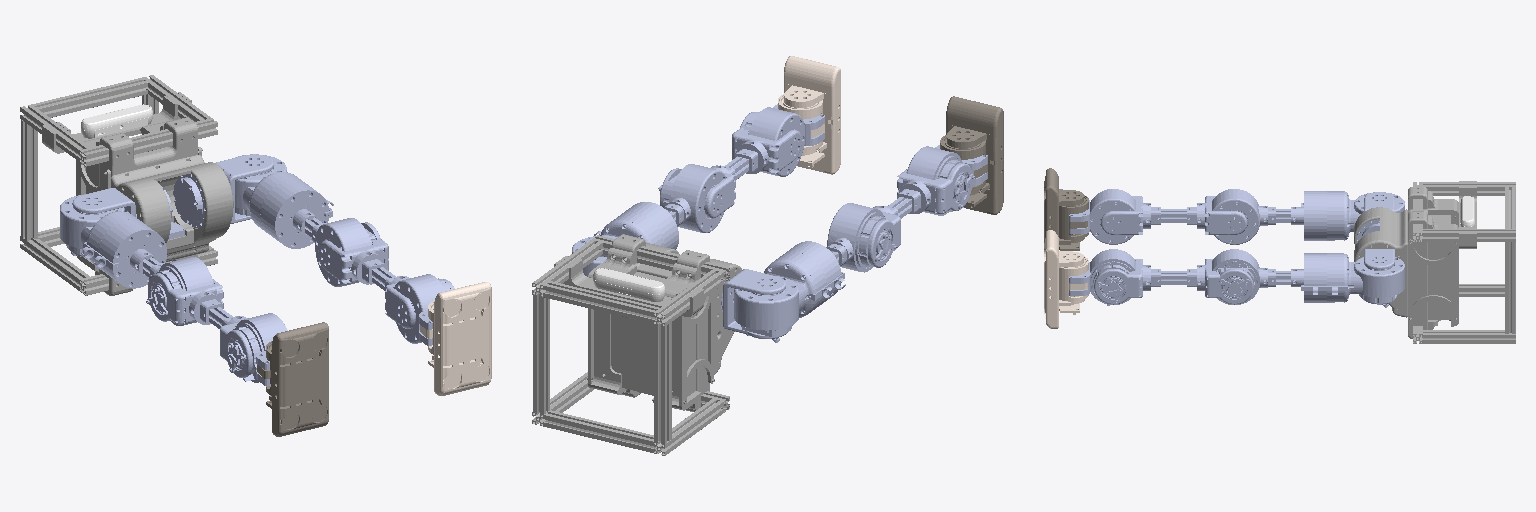
robot.urdf — final1_urdf:
<?xml version='1.0' encoding='utf-8'?>
<robot name="final1_urdf">
  <link name="pelvis">
    <inertial>
      <origin xyz="9.839E-07 0.08951 -0.034716" rpy="0 0 0" />
      <mass value="4.2075" />
      <inertia ixx="0.014044" ixy="4.3662E-09" ixz="-4.5112E-06" iyy="0.020395" iyz="0.00018173" izz="0.010714" />
    </inertial>
    <visual>
      <origin xyz="0 0 0" rpy="0 0 0" />
      <geometry>
        <mesh filename="package://final1_urdf/meshes/pelvis.STL" />
      </geometry>
      <material name="">
        <color rgba="0.75294 0.75294 0.75294 1" />
      </material>
    </visual>
    <collision>
      <origin xyz="0 0 0" rpy="0 0 0" />
      <geometry>
        <mesh filename="package://final1_urdf/meshes/pelvis.STL" />
      </geometry>
    </collision>
  </link>
  <link name="left_hip_f_link">
    <inertial>
      <origin xyz="-0.004802 8.0766E-05 0.0019792" rpy="0 0 0" />
      <mass value="0.3995" />
      <inertia ixx="0.00029699" ixy="6.7668E-07" ixz="6.7578E-07" iyy="0.0002179" iyz="4.2161E-07" izz="0.00023163" />
    </inertial>
    <visual>
      <origin xyz="0 0 0" rpy="0 0 0" />
      <geometry>
        <mesh filename="package://final1_urdf/meshes/left_hip_f_link.STL" />
      </geometry>
      <material name="">
        <color rgba="0.79216 0.81961 0.93333 1" />
      </material>
    </visual>
    <collision>
      <origin xyz="0 0 0" rpy="0 0 0" />
      <geometry>
        <mesh filename="package://final1_urdf/meshes/left_hip_f_link.STL" />
      </geometry>
    </collision>
  </link>
  <joint name="left_hip_f_joint" type="revolute">
    <origin xyz="0.071 0 0" rpy="0 0 0" />
    <parent link="pelvis" />
    <child link="left_hip_f_link" />
    <axis xyz="1 0 0" />
    <limit lower="0" upper="0" effort="0" velocity="0" />
  </joint>
  <link name="left_hip_a_link">
    <inertial>
      <origin xyz="-0.00029649 -0.035704 -0.019838" rpy="0 0 0" />
      <mass value="0.7989" />
      <inertia ixx="0.00076229" ixy="3.0686E-07" ixz="-6.0209E-07" iyy="0.00077244" iyz="-3.9078E-05" izz="0.00099028" />
    </inertial>
    <visual>
      <origin xyz="0 0 0" rpy="0 0 0" />
      <geometry>
        <mesh filename="package://final1_urdf/meshes/left_hip_a_link.STL" />
      </geometry>
      <material name="">
        <color rgba="0.79216 0.81961 0.93333 1" />
      </material>
    </visual>
    <collision>
      <origin xyz="0 0 0" rpy="0 0 0" />
      <geometry>
        <mesh filename="package://final1_urdf/meshes/left_hip_a_link.STL" />
      </geometry>
    </collision>
  </link>
  <joint name="left_hip_a_joint" type="revolute">
    <origin xyz="0.0725 0 0.019625" rpy="0 0 0" />
    <parent link="left_hip_f_link" />
    <child link="left_hip_a_link" />
    <axis xyz="0 0 -1" />
    <limit lower="0" upper="0" effort="0" velocity="0" />
  </joint>
  <link name="left_hip_r_link">
    <inertial>
      <origin xyz="-0.0028997 -0.032008 0.00017983" rpy="0 0 0" />
      <mass value="0.48458" />
      <inertia ixx="0.00048322" ixy="-1.0961E-05" ixz="-1.1905E-07" iyy="0.00041703" iyz="-7.7172E-07" izz="0.00039767" />
    </inertial>
    <visual>
      <origin xyz="0 0 0" rpy="0 0 0" />
      <geometry>
        <mesh filename="package://final1_urdf/meshes/left_hip_r_link.STL" />
      </geometry>
      <material name="">
        <color rgba="0.79216 0.81961 0.93333 1" />
      </material>
    </visual>
    <collision>
      <origin xyz="0 0 0" rpy="0 0 0" />
      <geometry>
        <mesh filename="package://final1_urdf/meshes/left_hip_r_link.STL" />
      </geometry>
    </collision>
  </link>
  <joint name="left_hip_r_joint" type="revolute">
    <origin xyz="0 -0.12405 -0.02" rpy="0 0 0" />
    <parent link="left_hip_a_link" />
    <child link="left_hip_r_link" />
    <axis xyz="0 1 0" />
    <limit lower="0" upper="0" effort="0" velocity="0" />
  </joint>
  <link name="left_knee_link">
    <inertial>
      <origin xyz="0.025103 -0.054039 -0.0002832" rpy="0 0 0" />
      <mass value="0.6077" />
      <inertia ixx="0.00058774" ixy="1.7004E-08" ixz="-1.7442E-07" iyy="0.00031697" iyz="-9.6663E-08" izz="0.00050521" />
    </inertial>
    <visual>
      <origin xyz="0 0 0" rpy="0 0 0" />
      <geometry>
        <mesh filename="package://final1_urdf/meshes/left_knee_link.STL" />
      </geometry>
      <material name="">
        <color rgba="0.79216 0.81961 0.93333 1" />
      </material>
    </visual>
    <collision>
      <origin xyz="0 0 0" rpy="0 0 0" />
      <geometry>
        <mesh filename="package://final1_urdf/meshes/left_knee_link.STL" />
      </geometry>
    </collision>
  </link>
  <joint name="left_knee_joint" type="revolute">
    <origin xyz="-0.01985 -0.15827 0.00035" rpy="0 0 0" />
    <parent link="left_hip_r_link" />
    <child link="left_knee_link" />
    <axis xyz="-1 0 0" />
    <limit lower="0" upper="0" effort="0" velocity="0" />
  </joint>
  <link name="left_ankle_f_link">
    <inertial>
      <origin xyz="0.0231470188711767 -0.00363723520690706 0.000196108049467458" rpy="0 0 0" />
      <mass value="0.479350778376135" />
      <inertia ixx="0.000607516579094491" ixy="1.74283560766878E-05" ixz="-1.18527257170734E-07" iyy="0.000367936381365894" iyz="2.91597906616465E-06" izz="0.000455183602729944" />
    </inertial>
    <visual>
      <origin xyz="0 0 0" rpy="0 0 0" />
      <geometry>
        <mesh filename="package://final1_urdf/meshes/left_ankle_f_link.STL" />
      </geometry>
      <material name="">
        <color rgba="0.792156862745098 0.819607843137255 0.933333333333333 1" />
      </material>
    </visual>
    <collision>
      <origin xyz="0 0 0" rpy="0 0 0" />
      <geometry>
        <mesh filename="package://final1_urdf/meshes/left_ankle_f_link.STL" />
      </geometry>
    </collision>
  </link>
  <joint name="left_ankle_f_joint" type="revolute">
    <origin xyz="0 -0.236 0" rpy="0 0 0" />
    <parent link="left_knee_link" />
    <child link="left_ankle_f_link" />
    <axis xyz="-1 0 0" />
    <limit lower="0" upper="0" effort="0" velocity="0" />
  </joint>
  <link name="left_ankle_r_link">
    <inertial>
      <origin xyz="0.00052334730830618 -0.0251210324577549 0.00788557788482058" rpy="0 0 0" />
      <mass value="0.552773293782394" />
      <inertia ixx="0.00102319485535352" ixy="-1.28134435012325E-06" ixz="-3.21380051111467E-07" iyy="0.00122199267972862" iyz="-4.18671394617864E-05" izz="0.000441956815258326" />
    </inertial>
    <visual>
      <origin xyz="0 0 0" rpy="0 0 0" />
      <geometry>
        <mesh filename="package://final1_urdf/meshes/left_ankle_r_link.STL" />
      </geometry>
      <material name="">
        <color rgba="1 0.949019607843137 0.909803921568627 1" />
      </material>
    </visual>
    <collision>
      <origin xyz="0 0 0" rpy="0 0 0" />
      <geometry>
        <mesh filename="package://final1_urdf/meshes/left_ankle_r_link.STL" />
      </geometry>
    </collision>
  </link>
  <joint name="left_ankle_r_joint" type="revolute">
    <origin xyz="0.02 -0.08245 -0.0105" rpy="0 0 0" />
    <parent link="left_ankle_f_link" />
    <child link="left_ankle_r_link" />
    <axis xyz="0 0 1" />
    <limit lower="0" upper="0" effort="0" velocity="0" />
  </joint>
  <link name="right_hip_f_link">
    <inertial>
      <origin xyz="0.00480203017234523 8.94208739444791E-05 0.00195829899369726" rpy="0 0 0" />
      <mass value="0.399500067678193" />
      <inertia ixx="0.000296985387105879" ixy="-7.49212103520412E-07" ixz="-5.0070706278901E-07" iyy="0.000218064369957338" iyz="2.53381610807258E-07" izz="0.000231458892812969" />
    </inertial>
    <visual>
      <origin xyz="0 0 0" rpy="0 0 0" />
      <geometry>
        <mesh filename="package://final1_urdf/meshes/right_hip_f_link.STL" />
      </geometry>
      <material name="">
        <color rgba="0.792156862745098 0.819607843137255 0.933333333333333 1" />
      </material>
    </visual>
    <collision>
      <origin xyz="0 0 0" rpy="0 0 0" />
      <geometry>
        <mesh filename="package://final1_urdf/meshes/right_hip_f_link.STL" />
      </geometry>
    </collision>
  </link>
  <joint name="right_hip_f_joint" type="revolute">
    <origin xyz="-0.071 0 0" rpy="0 0 0" />
    <parent link="pelvis" />
    <child link="right_hip_f_link" />
    <axis xyz="1 0 0" />
    <limit lower="0" upper="0" effort="0" velocity="0" />
  </joint>
  <link name="right_hip_a_link">
    <inertial>
      <origin xyz="-0.000291191460199541 -0.0379313905989257 -0.0217892547404157" rpy="0 0 0" />
      <mass value="0.75198145394561" />
      <inertia ixx="0.000750756166093472" ixy="1.1623386715664E-07" ixz="-1.87357791140537E-06" iyy="0.000754159487452489" iyz="-3.90809061808232E-05" izz="0.000962960051507626" />
    </inertial>
    <visual>
      <origin xyz="0 0 0" rpy="0 0 0" />
      <geometry>
        <mesh filename="package://final1_urdf/meshes/right_hip_a_link.STL" />
      </geometry>
      <material name="">
        <color rgba="0.792156862745098 0.819607843137255 0.933333333333333 1" />
      </material>
    </visual>
    <collision>
      <origin xyz="0 0 0" rpy="0 0 0" />
      <geometry>
        <mesh filename="package://final1_urdf/meshes/right_hip_a_link.STL" />
      </geometry>
    </collision>
  </link>
  <joint name="right_hip_a_joint" type="revolute">
    <origin xyz="-0.0725 0 0.019625" rpy="0 0 0" />
    <parent link="right_hip_f_link" />
    <child link="right_hip_a_link" />
    <axis xyz="0 0 -1" />
    <limit lower="0" upper="0" effort="0" velocity="0" />
  </joint>
  <link name="right_hip_r_link">
    <inertial>
      <origin xyz="0.002881064498 -0.03200325677 -2.796388496e-05" rpy="0 0 0" />
      <mass value="0.484578164755911" />
      <inertia ixx="0.000483223824381888" ixy="1.11502172949931E-05" ixz="-1.19053885376094E-07" iyy="0.000417032557694162" iyz="-7.71656937001713E-07" izz="0.000397665260898128" />
    </inertial>
    <visual>
      <origin xyz="0.01985 -0.15827 -0.00035" rpy="0 0 0" />
      <geometry>
        <mesh filename="package://final1_urdf/meshes/right_hip_r_link.STL" />
      </geometry>
      <material name="">
        <color rgba="0.792156862745098 0.819607843137255 0.933333333333333 1" />
      </material>
    </visual>
    <collision>
      <origin xyz="0.01985 -0.15827 -0.00035" rpy="0 0 0" />
      <geometry>
        <mesh filename="package://final1_urdf/meshes/right_hip_r_link.STL" />
      </geometry>
    </collision>
  </link>
  <joint name="right_hip_r_joint" type="revolute">
    <origin xyz="0 -0.12405 -0.02" rpy="0 0 0" />
    <parent link="right_hip_a_link" />
    <child link="right_hip_r_link" />
    <axis xyz="0 1 0" />
    <limit lower="0" upper="0" effort="0" velocity="0" />
  </joint>
  <link name="right_knee_link">
    <inertial>
      <origin xyz="-0.0251028272609897 -0.0540390159075022 0.000283200578150344" rpy="0 0 0" />
      <mass value="0.607696213986947" />
      <inertia ixx="0.000587738964039527" ixy="-1.70037311223142E-08" ixz="-1.74422604228582E-07" iyy="0.000316967066186684" iyz="9.66633806313855E-08" izz="0.000505213330321344" />
    </inertial>
    <visual>
      <origin xyz="0 0 0" rpy="0 0 0" />
      <geometry>
        <mesh filename="package://final1_urdf/meshes/right_knee_link.STL" />
      </geometry>
      <material name="">
        <color rgba="0.792156862745098 0.819607843137255 0.933333333333333 1" />
      </material>
    </visual>
    <collision>
      <origin xyz="0 0 0" rpy="0 0 0" />
      <geometry>
        <mesh filename="package://final1_urdf/meshes/right_knee_link.STL" />
      </geometry>
    </collision>
  </link>
  <joint name="right_knee_joint" type="revolute">
    <origin xyz="0.01985 -0.15827 -0.00035" rpy="0 0 0" />
    <parent link="right_hip_r_link" />
    <child link="right_knee_link" />
    <axis xyz="1 0 0" />
    <limit lower="0" upper="0" effort="0" velocity="0" />
  </joint>
  <link name="right_ankle_f_link">
    <inertial>
      <origin xyz="-0.0231470188711867 -0.00362831846975931 0.000176972933583652" rpy="0 0 0" />
      <mass value="0.479350778376136" />
      <inertia ixx="0.000607516579094492" ixy="-1.74515465744097E-05" ixz="9.56830980355604E-08" iyy="0.000368120414548514" iyz="2.63686485988115E-06" izz="0.000454999569547325" />
    </inertial>
    <visual>
      <origin xyz="0 0 0" rpy="0 0 0" />
      <geometry>
        <mesh filename="package://final1_urdf/meshes/right_ankle_f_link.STL" />
      </geometry>
      <material name="">
        <color rgba="0.792156862745098 0.819607843137255 0.933333333333333 1" />
      </material>
    </visual>
    <collision>
      <origin xyz="0 0 0" rpy="0 0 0" />
      <geometry>
        <mesh filename="package://final1_urdf/meshes/right_ankle_f_link.STL" />
      </geometry>
    </collision>
  </link>
  <joint name="right_ankle_f_joint" type="revolute">
    <origin xyz="0 -0.236 0" rpy="0 0 0" />
    <parent link="right_knee_link" />
    <child link="right_ankle_f_link" />
    <axis xyz="1 0 0" />
    <limit lower="0" upper="0" effort="0" velocity="0" />
  </joint>
  <link name="right_ankle_r_link">
    <inertial>
      <origin xyz="0.000523347275080716 -0.0251210324601663 0.0078855779863003" rpy="0 0 0" />
      <mass value="0.55277329273497" />
      <inertia ixx="0.00102319485516126" ixy="-1.28134457705915E-06" ixz="-3.21379915589607E-07" iyy="0.00122199267932617" iyz="-4.1867139552332E-05" izz="0.000441956814759228" />
    </inertial>
    <visual>
      <origin xyz="0 0 0" rpy="0 0 0" />
      <geometry>
        <mesh filename="package://final1_urdf/meshes/right_ankle_r_link.STL" />
      </geometry>
      <material name="">
        <color rgba="0.650980392156863 0.619607843137255 0.588235294117647 1" />
      </material>
    </visual>
    <collision>
      <origin xyz="0 0 0" rpy="0 0 0" />
      <geometry>
        <mesh filename="package://final1_urdf/meshes/right_ankle_r_link.STL" />
      </geometry>
    </collision>
  </link>
  <joint name="right_ankle_r_joint" type="revolute">
    <origin xyz="-0.01955 -0.08245 -0.0115" rpy="0 0 0" />
    <parent link="right_ankle_f_link" />
    <child link="right_ankle_r_link" />
    <axis xyz="0 0 -1" />
    <limit lower="0" upper="0" effort="0" velocity="0" />
  </joint>
  <link name="imu">
    <inertial>
      <origin xyz="-6.93889390390723E-18 5.20417042793042E-18 -0.00499999999999989" rpy="0 0 0" />
      <mass value="0.0119097344572539" />
      <inertia ixx="1.26552694521931E-06" ixy="4.71751443096649E-22" ixz="1.58522759949874E-23" iyy="1.26552694521931E-06" iyz="-1.9192770547312E-23" izz="2.33255831615105E-06" />
    </inertial>
    <visual>
      <origin xyz="0 0 0" rpy="0 0 0" />
      <geometry>
        <mesh filename="package://final1_urdf/meshes/imu.STL" />
      </geometry>
      <material name="">
        <color rgba="0.792156862745098 0.819607843137255 0.933333333333333 1" />
      </material>
    </visual>
    <collision>
      <origin xyz="0 0 0" rpy="0 0 0" />
      <geometry>
        <mesh filename="package://final1_urdf/meshes/imu.STL" />
      </geometry>
    </collision>
  </link>
  <joint name="imu" type="fixed">
    <origin xyz="0.0005 0.009775 -0.044" rpy="0 0 0" />
    <parent link="pelvis" />
    <child link="imu" />
    <axis xyz="0 0 0" />
  </joint>
  <link name="D455">
    <inertial>
      <origin xyz="0 0 0" rpy="0 0 0" />
      <mass value="0.103" />
      <inertia ixx="1.30209e-05" ixy="0" ixz="0" iyy="0.000139196" iyz="0" izz="0.00013778" />
    </inertial>
    <visual>
      <origin xyz="0 0 0" rpy="0 0 0" />
      <geometry>
        <mesh filename="package://final1_urdf/meshes/D455.STL" />
      </geometry>
      <material name="">
        <color rgba="1 1 1 1" />
      </material>
    </visual>
    <collision>
      <origin xyz="0 0 0" rpy="0 0 0" />
      <geometry>
        <mesh filename="package://final1_urdf/meshes/D455.STL" />
      </geometry>
    </collision>
  </link>
  <joint name="D455" type="fixed">
    <origin xyz="-0.00025 0.17223 0.08193" rpy="0 0 0" />
    <parent link="pelvis" />
    <child link="D455" />
    <axis xyz="0 0 0" />
  </joint>
</robot>

--- Facts derived from the render (not from the file) ---
3 views of the same robot in one strip: view 1: azimuth 30°, elevation 25°; view 2: azimuth 150°, elevation 25°; view 3: azimuth 270°, elevation 25° (orthographic).
Model final1_urdf with 15 links and 14 joints (12 revolute, 2 fixed), rooted at pelvis, posed all joints at 0.
Visible links, largest first — view 1: pelvis, left_ankle_r_link, right_ankle_r_link, right_hip_a_link, left_hip_a_link, right_knee_link, left_knee_link, left_hip_f_link, left_hip_r_link, right_ankle_f_link, left_ankle_f_link, right_hip_r_link (+2 smaller); view 2: pelvis, right_hip_a_link, left_ankle_r_link, right_ankle_r_link, right_knee_link, left_knee_link, left_hip_r_link, left_hip_a_link, right_ankle_f_link, left_ankle_f_link, right_hip_r_link, right_hip_f_link (+1 smaller); view 3: pelvis, left_hip_a_link, left_knee_link, right_knee_link, left_ankle_r_link, right_hip_a_link, right_ankle_r_link, right_hip_r_link, left_ankle_f_link, right_ankle_f_link, left_hip_r_link, right_hip_f_link (+1 smaller).
Link boxes in pixels (x1=…): pelvis: x1=20, y1=75, x2=233, y2=295; left_ankle_r_link: x1=420, y1=282, x2=491, y2=395; right_ankle_r_link: x1=257, y1=322, x2=328, y2=436; right_hip_a_link: x1=60, y1=194, x2=166, y2=288; left_hip_a_link: x1=235, y1=155, x2=333, y2=248; right_knee_link: x1=146, y1=266, x2=252, y2=377; left_knee_link: x1=318, y1=222, x2=454, y2=328; left_hip_f_link: x1=173, y1=154, x2=273, y2=227; left_hip_r_link: x1=293, y1=209, x2=371, y2=286; right_ankle_f_link: x1=228, y1=313, x2=287, y2=385; left_ankle_f_link: x1=394, y1=274, x2=450, y2=345; right_hip_r_link: x1=130, y1=249, x2=213, y2=325; pelvis: x1=532, y1=234, x2=741, y2=455; right_hip_a_link: x1=734, y1=241, x2=845, y2=342; left_ankle_r_link: x1=778, y1=56, x2=840, y2=174; right_ankle_r_link: x1=940, y1=96, x2=1003, y2=214; right_knee_link: x1=855, y1=163, x2=972, y2=268; left_knee_link: x1=658, y1=112, x2=801, y2=218; left_hip_r_link: x1=664, y1=164, x2=725, y2=232; left_hip_a_link: x1=572, y1=202, x2=678, y2=276; right_ankle_f_link: x1=907, y1=145, x2=987, y2=215; left_ankle_f_link: x1=744, y1=104, x2=824, y2=176; right_hip_r_link: x1=826, y1=203, x2=883, y2=272; right_hip_f_link: x1=721, y1=269, x2=787, y2=338; pelvis: x1=1354, y1=181, x2=1515, y2=343; left_hip_a_link: x1=1301, y1=253, x2=1404, y2=307; left_knee_link: x1=1094, y1=259, x2=1256, y2=304; right_knee_link: x1=1101, y1=196, x2=1247, y2=234; left_ankle_r_link: x1=1044, y1=230, x2=1088, y2=328; right_hip_a_link: x1=1301, y1=191, x2=1404, y2=240; right_ankle_r_link: x1=1044, y1=168, x2=1088, y2=250; right_hip_r_link: x1=1212, y1=189, x2=1303, y2=244; left_ankle_f_link: x1=1069, y1=249, x2=1135, y2=305; right_ankle_f_link: x1=1069, y1=189, x2=1135, y2=244; left_hip_r_link: x1=1212, y1=249, x2=1303, y2=304; right_hip_f_link: x1=1357, y1=192, x2=1394, y2=242.
Bounding box of the posed robot: 0.4195 × 0.9177 × 0.258 m (x, y, z).
Meshes: 15 distinct files referenced, 15 mesh visuals loaded (15 binary STL).
